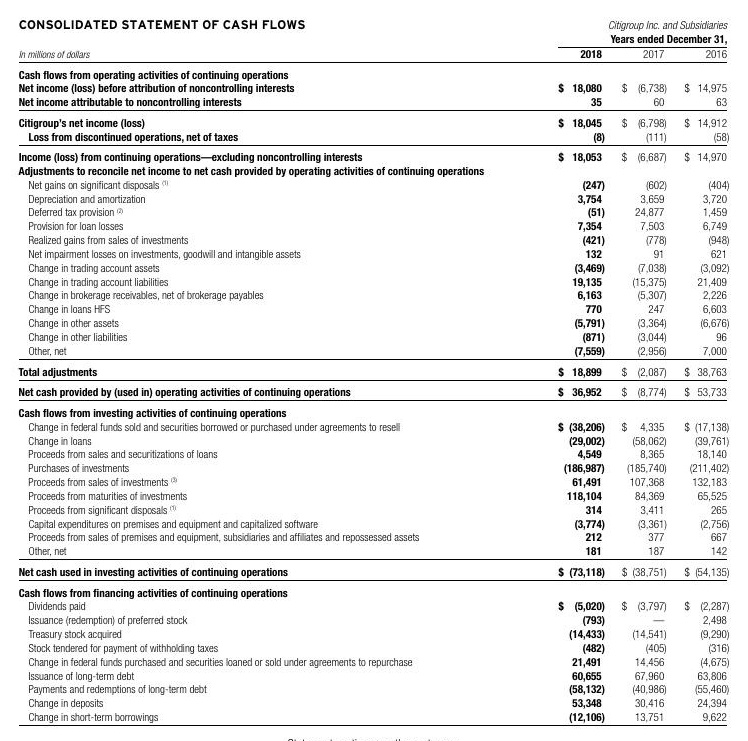table: (0, 0, 748, 741)
